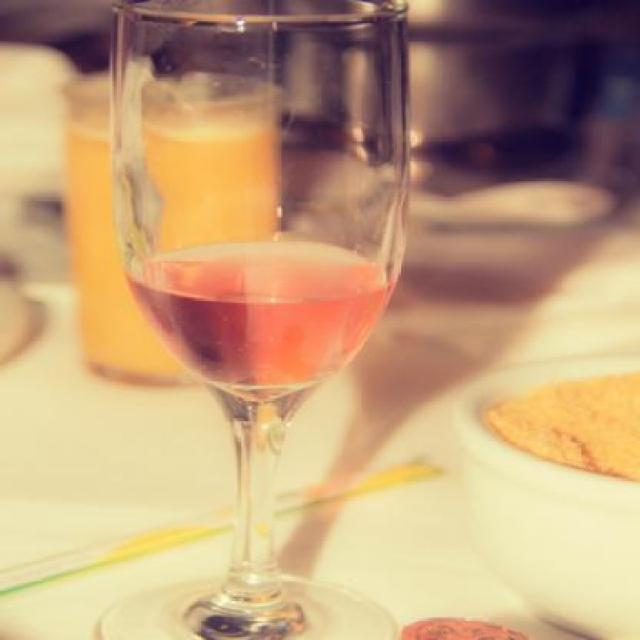Juice: (61, 110, 276, 388), (117, 240, 397, 392)
